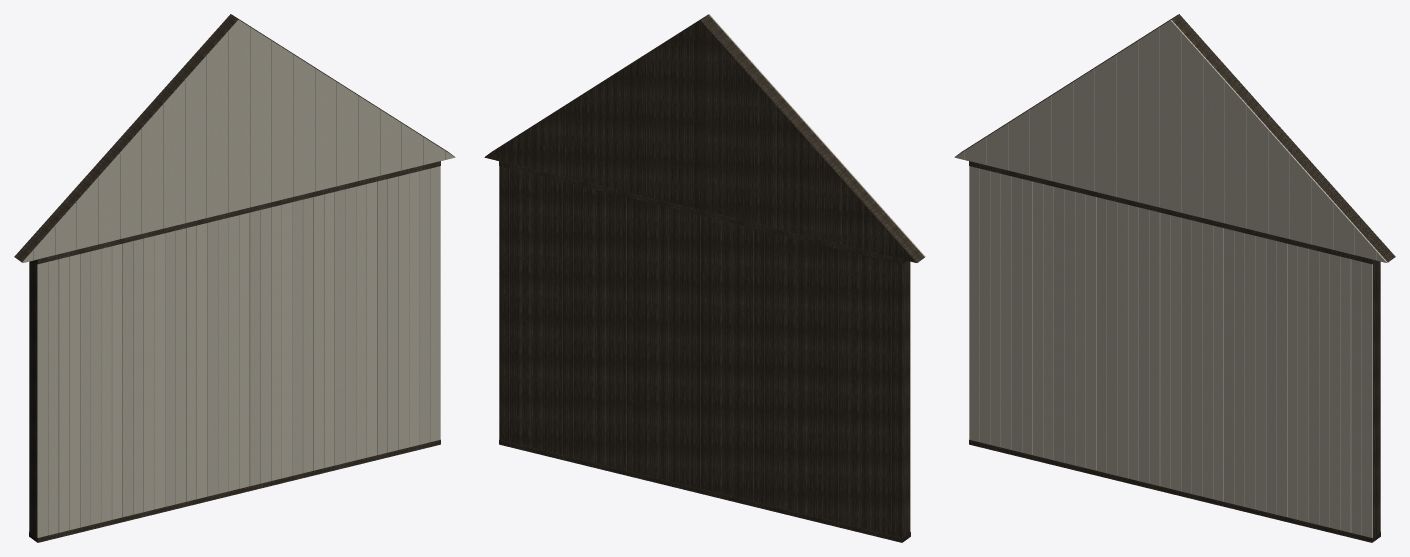
The picture shows the model from 3 angles, left to right: view 1: azimuth 30°, elevation 25°; view 2: azimuth 150°, elevation 25°; view 3: azimuth 330°, elevation 25°; orthographic projection.
Visible parts, largest first — view 1: Mesh_warm, Mesh_dark; view 2: Mesh_dark, Mesh_warm; view 3: Mesh_warm, Mesh_dark.
Boxes of the visible parts, box(x1,y1,x2,y2) form: Mesh_warm: box(22, 20, 455, 537); Mesh_dark: box(14, 14, 454, 542); Mesh_dark: box(484, 14, 924, 542); Mesh_warm: box(709, 14, 925, 531); Mesh_warm: box(954, 20, 1387, 537); Mesh_dark: box(955, 14, 1395, 542).
Size of the model in its own units: 7.2 by 7.52 by 0.254.
Materials: 2 (2 with a texture image).
